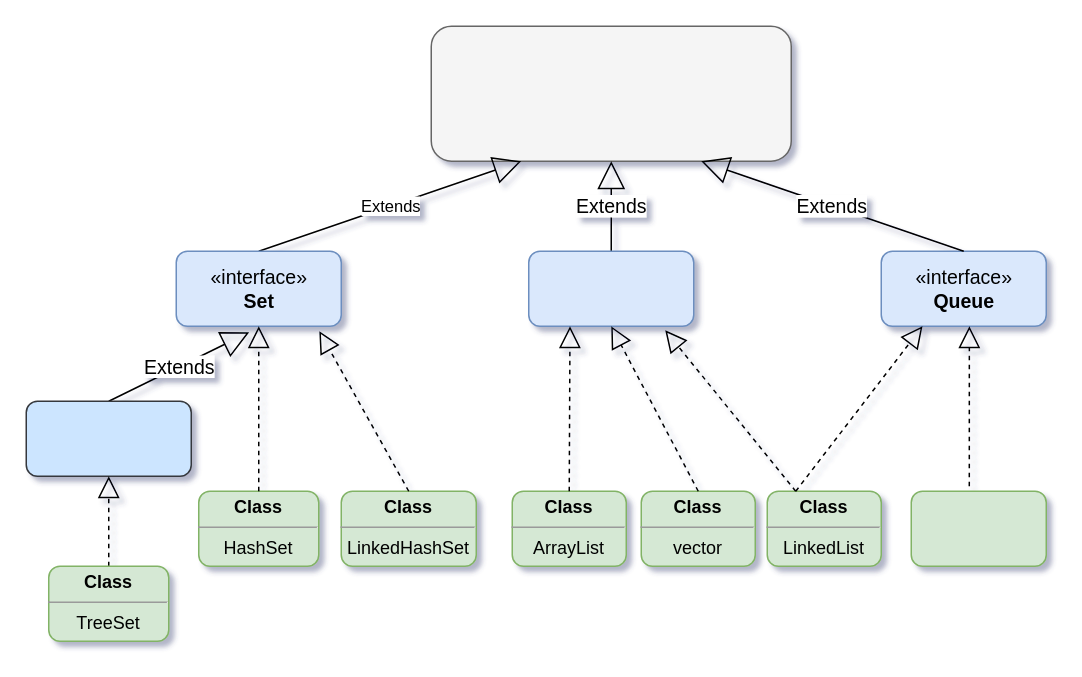
The diagram is 1082 pixels wide and 677 high, and some of its shapes have lost their labels. Here are the shapes that lost their labels. From the top down, the centre of each, then its label:
At point 610,93: "<<Interface>> Collection<E> + add(E e) : boolean + iterator() : Iterator".
At point 610,288: "«interface» List".
At point 108,438: "«interface» SortedSet".
At point 978,528: "Class PriorityQueue".
